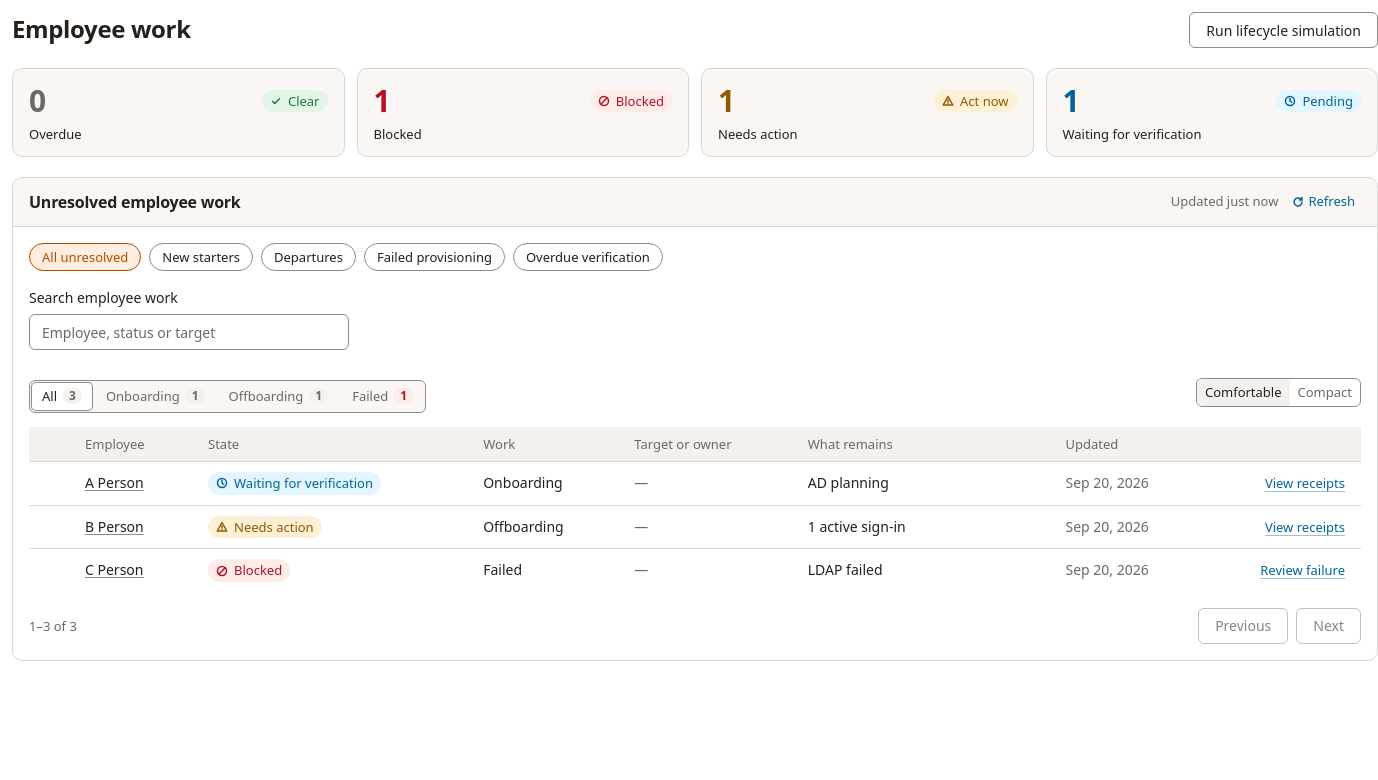
it: EmployeeWorkPage › uses the server counts and filters the same returned work rows
The width and height of the screenshot is (1378, 780).
Expected: the link "B Person" is shown, top-left (85, 517), bottom-right (144, 536)
Click the button "Offboarding 1". click: (278, 396)
box: top-left (219, 383), bottom-right (338, 410)
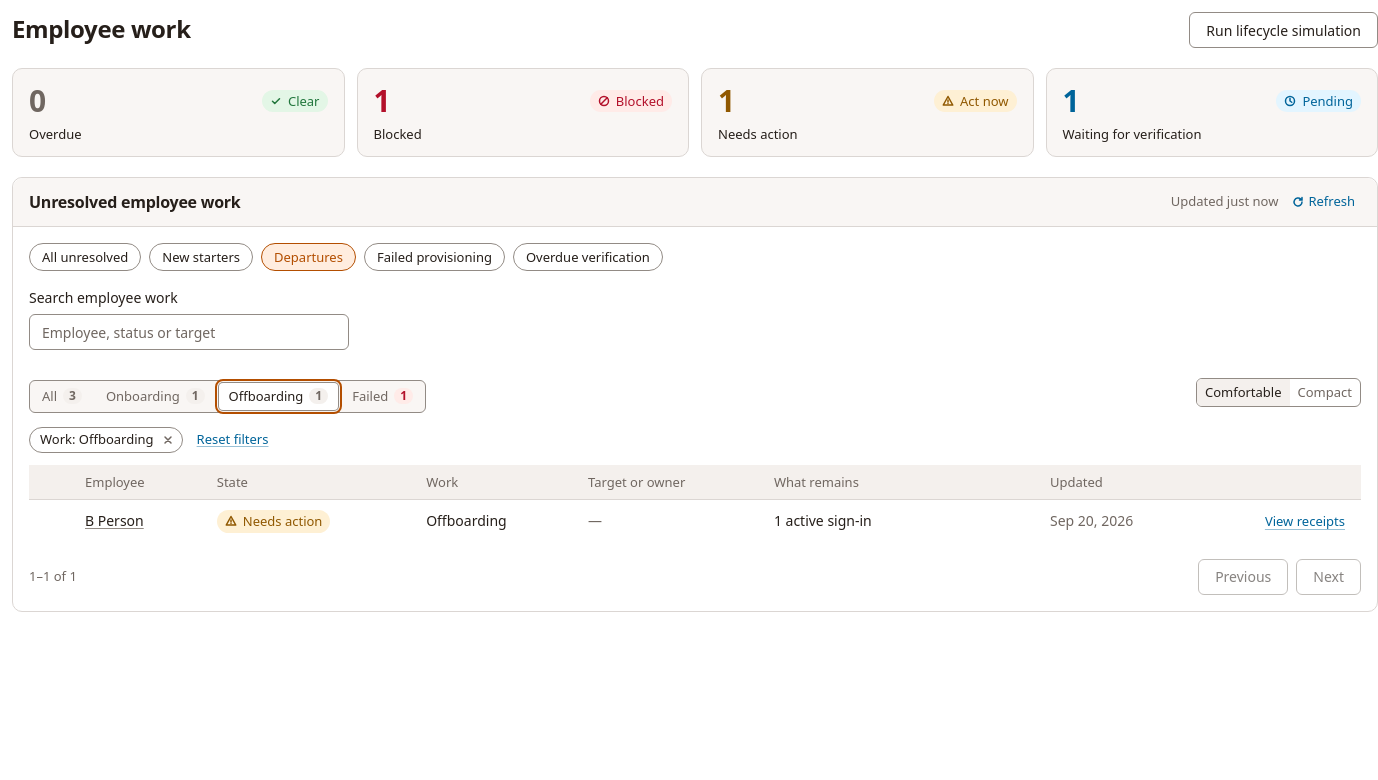
Expected: the link "B Person" is shown, top-left (85, 511), bottom-right (144, 530)
Expected: the button named "Remove filter Work: Offboarding" is shown, top-left (158, 430), bottom-right (178, 450)
Expected: the link "A Person" is gone
